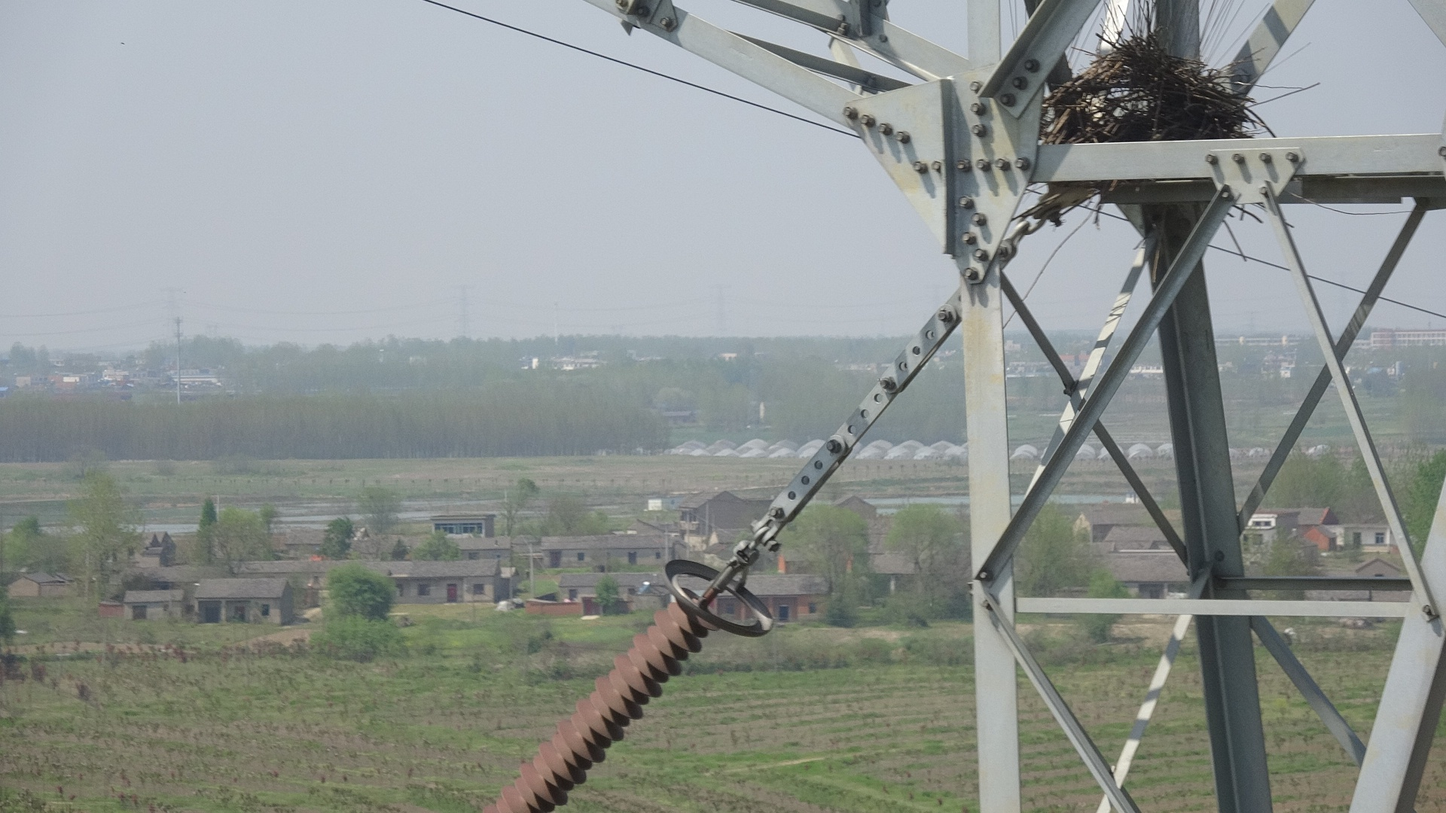insulator: (470, 583, 718, 813)
